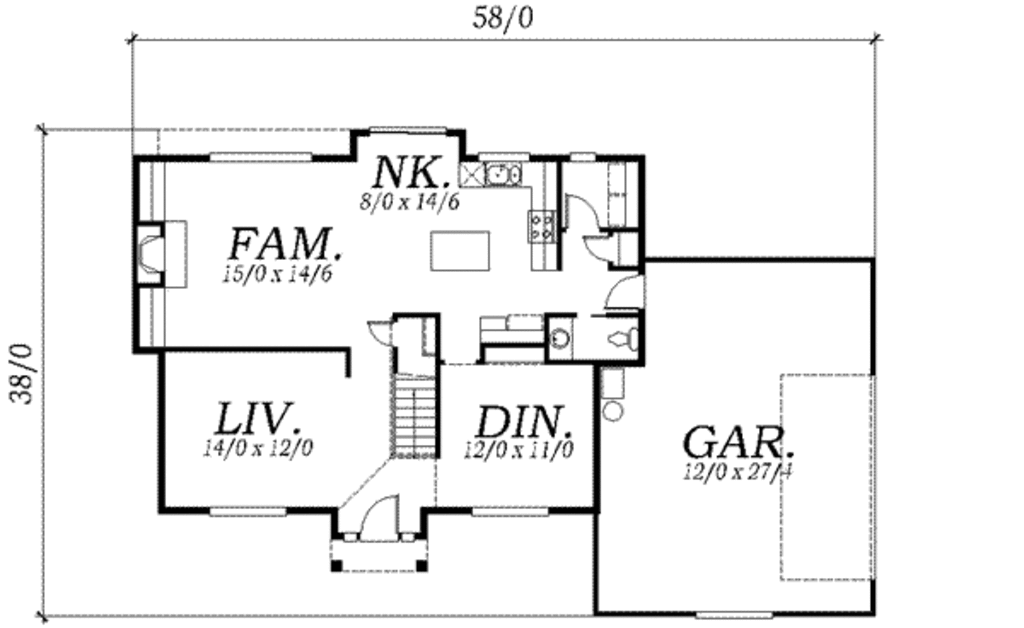door: (356, 494, 401, 544), (560, 193, 609, 232), (602, 272, 645, 310), (578, 233, 614, 269), (364, 316, 392, 354)
large_sink: (600, 328, 642, 355)
small_sink: (545, 319, 575, 364)
stairs: (387, 344, 442, 461)
twin_sink: (484, 160, 525, 192)
window: (204, 498, 289, 523), (200, 147, 318, 164), (467, 501, 554, 524), (366, 122, 450, 143), (689, 605, 773, 625)
